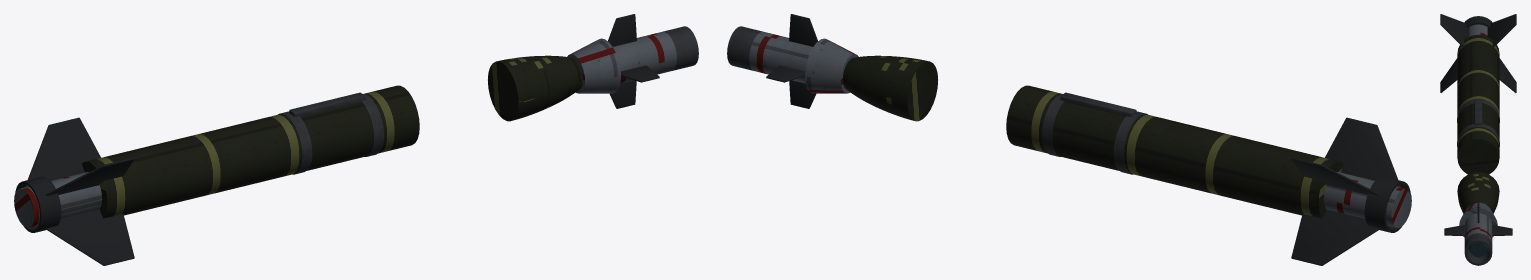
Rendered from mun_lgb.glb.
3 renders of one model, left to right at view 1: azimuth 30°, elevation 25°; view 2: azimuth 150°, elevation 25°; view 3: azimuth 270°, elevation 25°, orthographic. The views are drawn at different scales.
Visible parts, largest first — view 1: mun_lgb; view 2: mun_lgb; view 3: mun_lgb.
Boxes of the visible parts, x1,y1,x2,y2 form: mun_lgb: (14, 14, 698, 265); mun_lgb: (727, 14, 1411, 265); mun_lgb: (1440, 14, 1516, 265).
Size of the model in its own units: 3.33 by 0.4846 by 0.4846.
5 materials, 3 textured.
